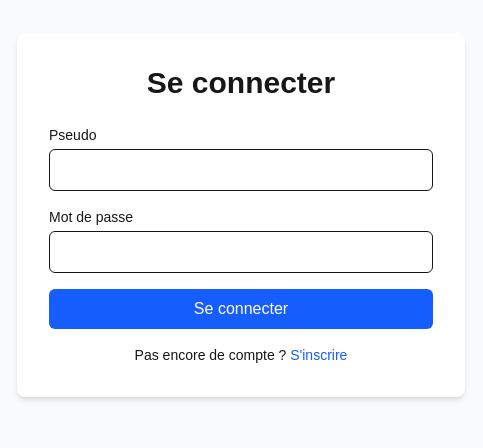
Test: LoginPage › affiche une erreur si le serveur ne répond pas
Step 1. Type "any" into the field labelled "Pseudo" → (241, 170), box [49,149,433,191]
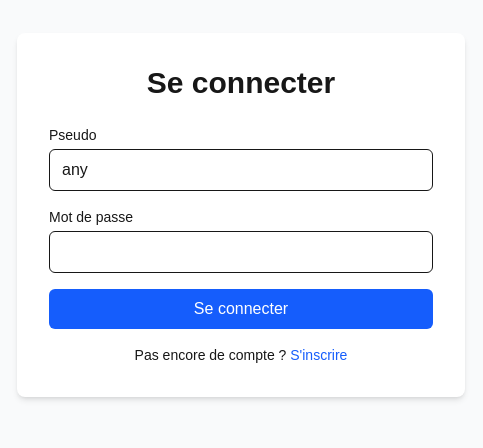
Step 2. Type "any" into the password field labelled "Mot de passe" → (241, 252), box [49,231,433,273]
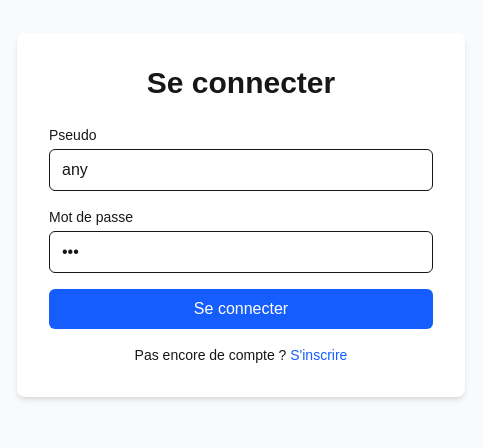
Step 3. Click the button "Se connecter" → (241, 309), box [49,289,433,329]
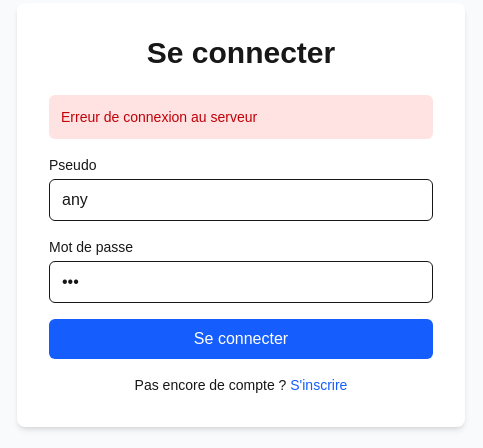
Expected: the text "Erreur de connexion au serveur" is shown, [49,95,433,139]
